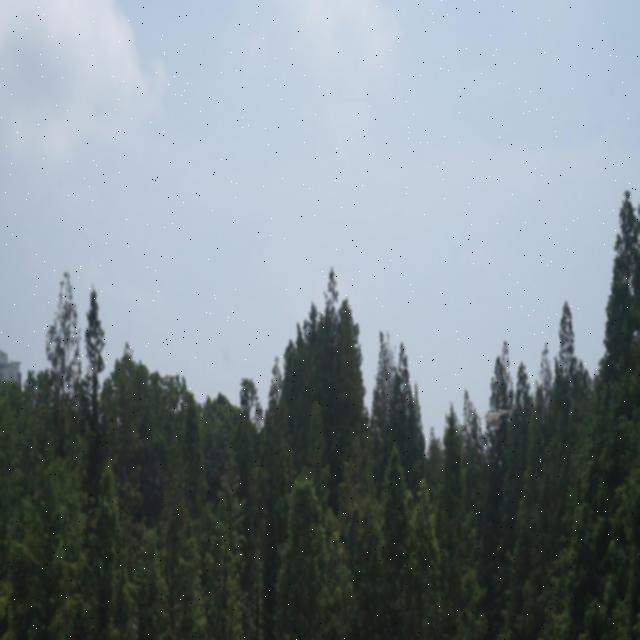UAV: (478, 409, 508, 432)
